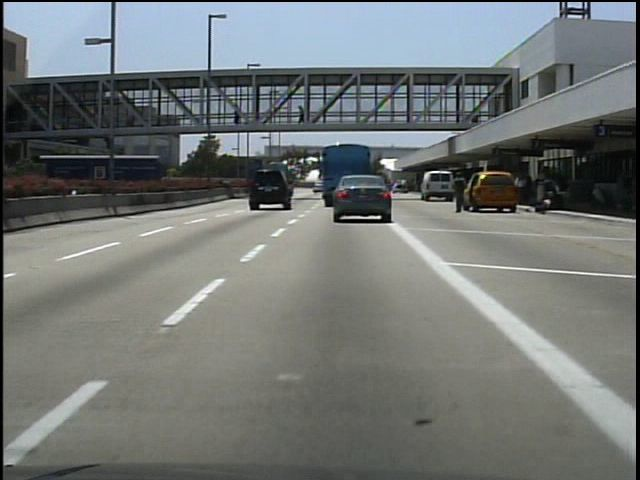person: (451, 171, 473, 218), (296, 103, 310, 129), (230, 102, 245, 126)
